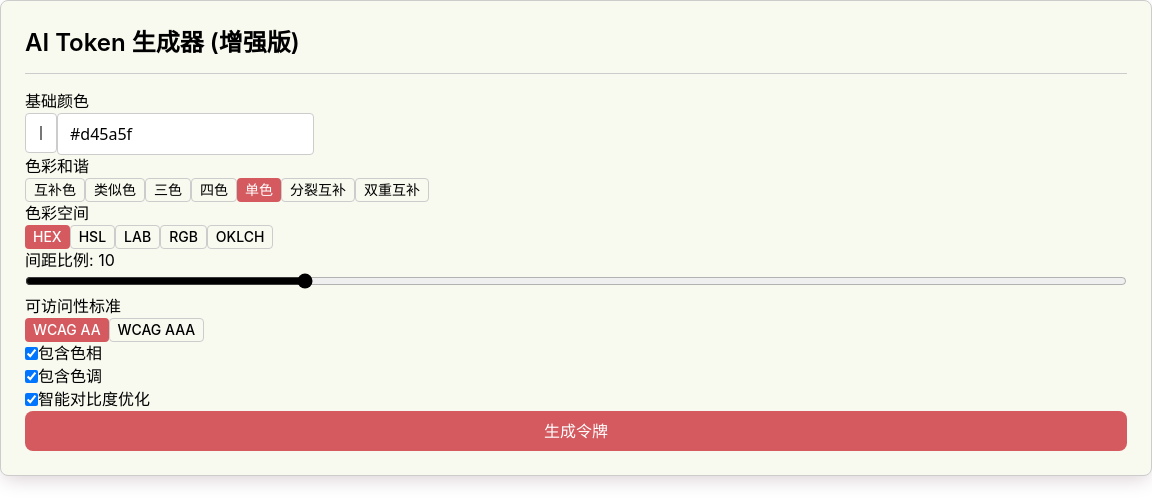
Test: AITokenGeneratorEnhanced › 应该允许启用/禁用包含色调
What coordinates should you click on to do the following:
click the checkbox labelled "包含色调"
I would click on:
 (32, 376)
Its box is [25, 370, 38, 383].
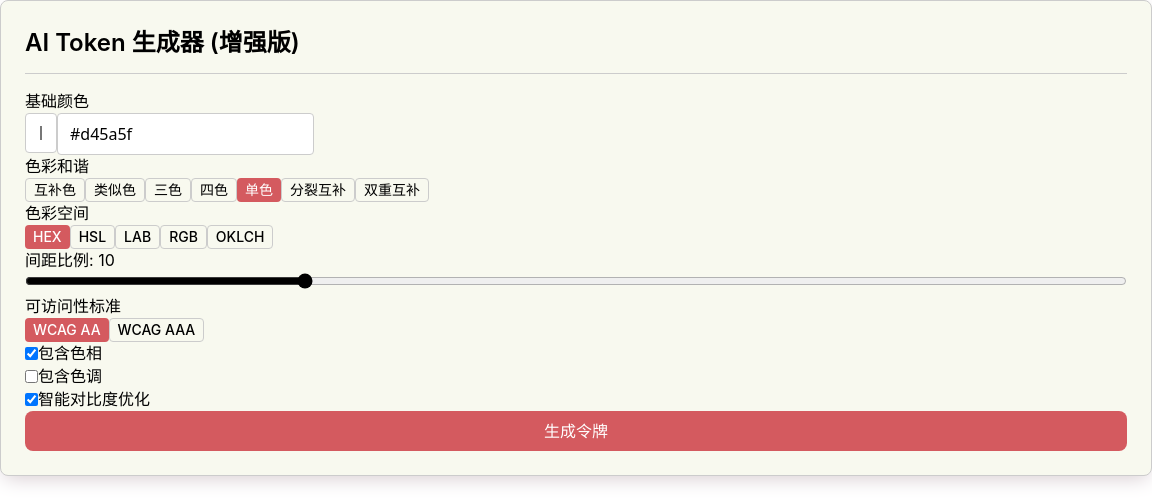
Check: the checkbox labelled "包含色调" is not checked, box [25, 370, 38, 383]
